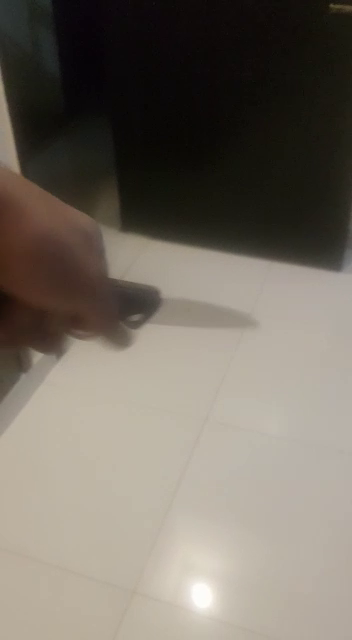knife: (10, 153, 311, 481)
